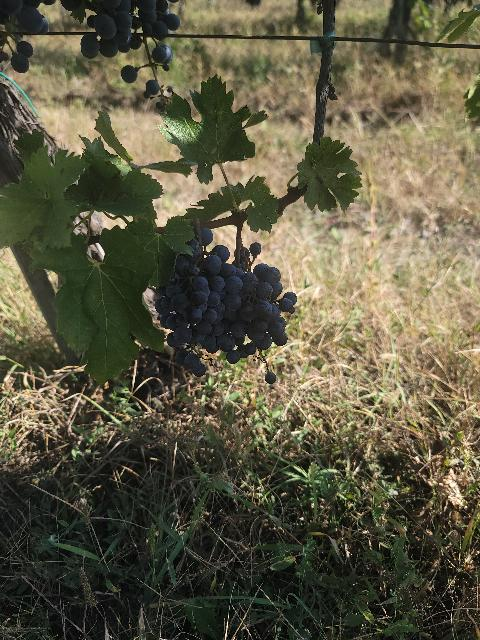grapes: (155, 229, 244, 376), (216, 264, 296, 356), (234, 279, 258, 308)
